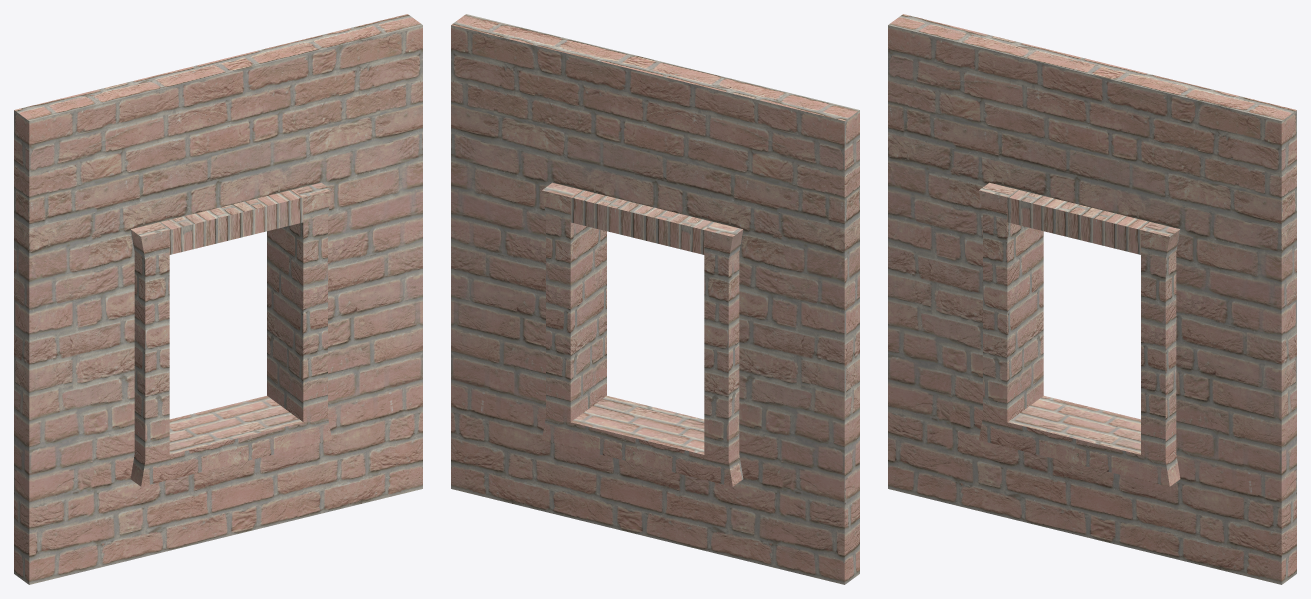
The model's file is WallWindowHight.fbx.
3 renders of one model, left to right at view 1: azimuth 30°, elevation 25°; view 2: azimuth 150°, elevation 25°; view 3: azimuth 330°, elevation 25°, orthographic.
Parts seen in each view (by area): view 1: WallWindowHight; view 2: WallWindowHight; view 3: WallWindowHight.
Part boxes in pixels (bbox=[...]): WallWindowHight: bbox=[14, 14, 422, 584]; WallWindowHight: bbox=[451, 14, 859, 584]; WallWindowHight: bbox=[888, 14, 1296, 584].
Bounding box in the file's own units: 300 × 338 × 47.91.
Materials: 1 (1 with a texture image).
